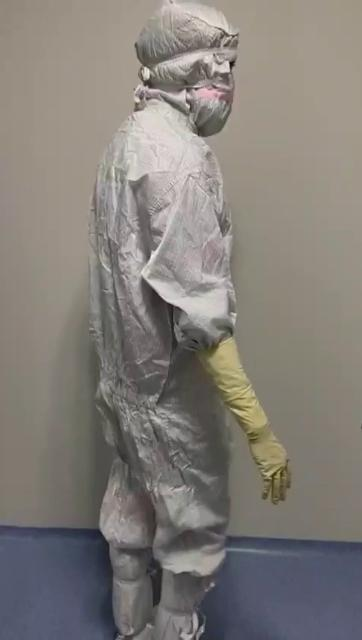boot_secured: (95, 510, 160, 640)
gloves_fitted_securely: (182, 308, 306, 514)
headgear_secured: (109, 2, 257, 134)
